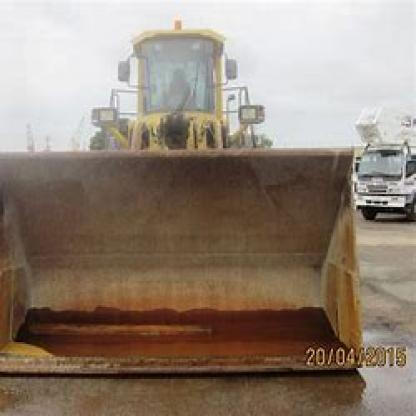bull_dozer/loader/grader: (0, 16, 369, 379)
